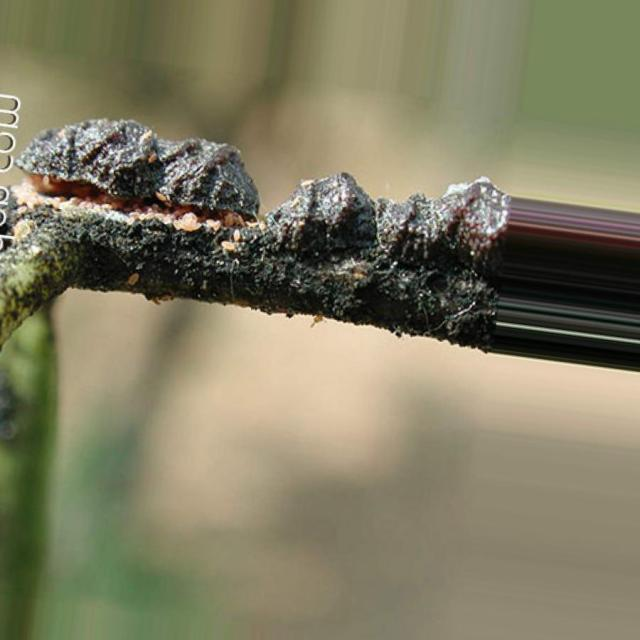Black Scale: (16, 119, 260, 225), (262, 173, 375, 268)
